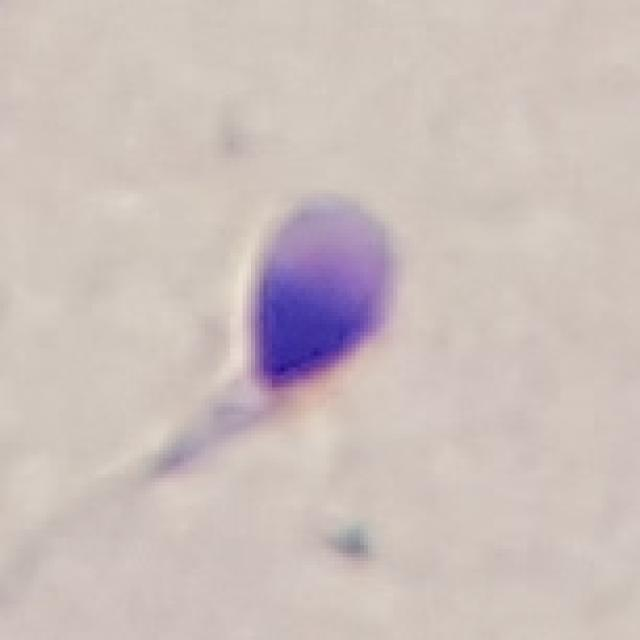normal sperm: (110, 188, 418, 506)
